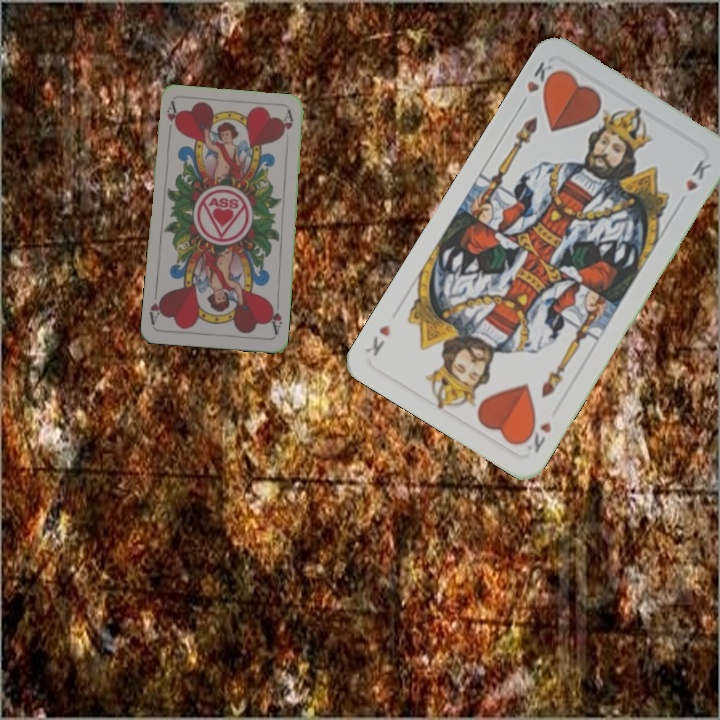HA: (265, 297, 285, 337), (163, 99, 181, 139)
HK: (515, 57, 561, 110), (518, 415, 554, 456)
